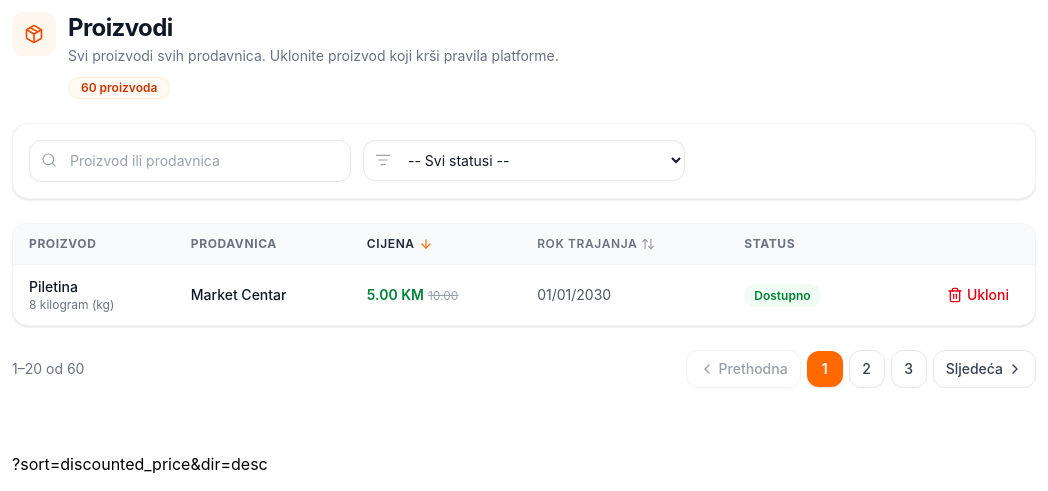
Scenario: sortable admin tables › sorts one column at a time
Expected: the text "Piletina" is shown, left=29, top=278, right=78, bottom=295
Click the button "Rok trajanja": point(596, 244) left=537, top=236, right=655, bottom=252
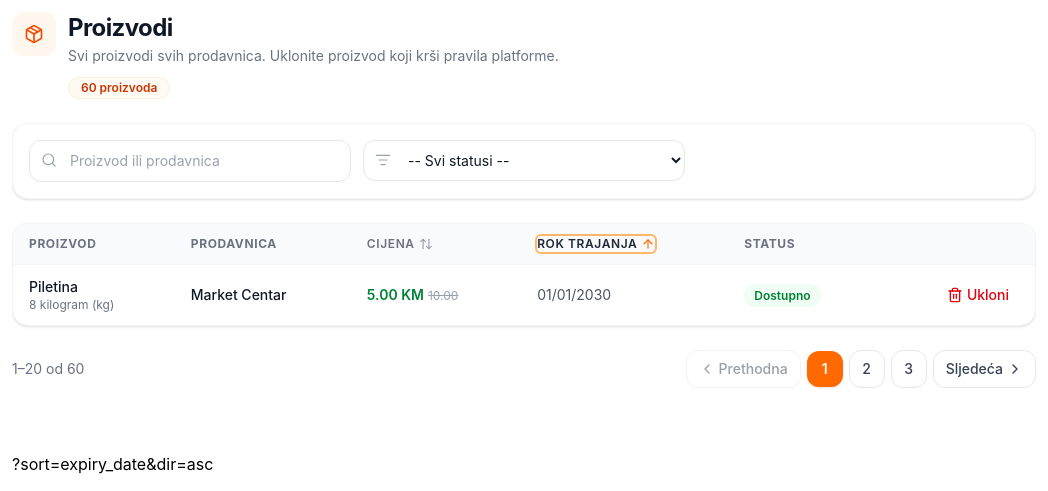
Now the text with test id "search" reads "?sort=expiry_date&dir=asc", box left=12, top=454, right=213, bottom=474
